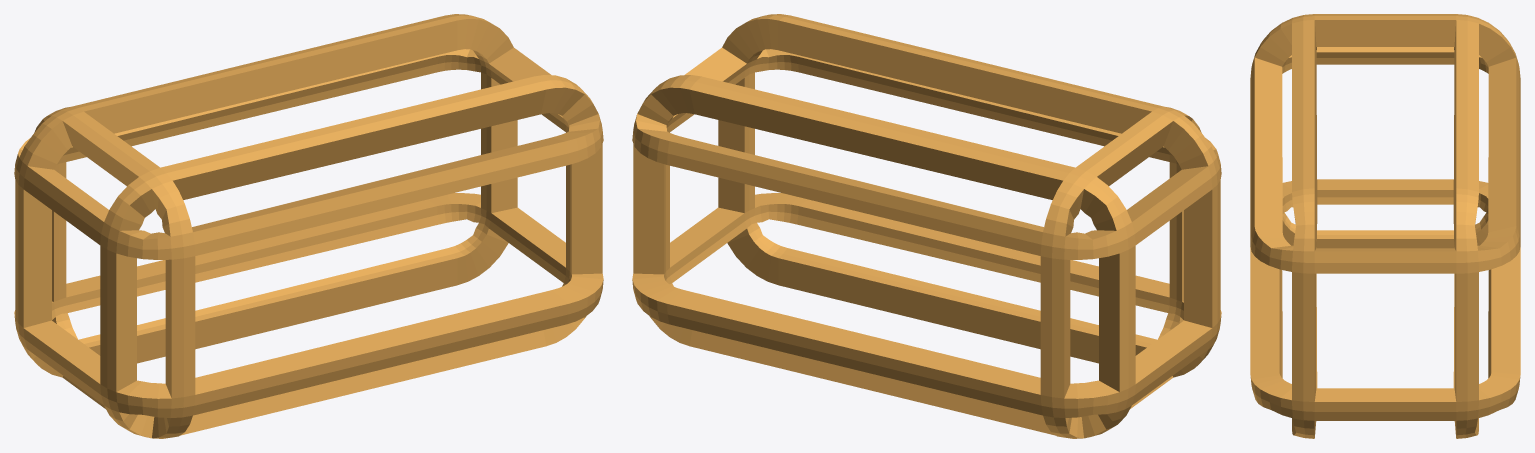
Rendered from RoundCubeMesh_03.fbx.
The picture shows the model from 3 angles, left to right: view 1: azimuth 30°, elevation 25°; view 2: azimuth 150°, elevation 25°; view 3: azimuth 270°, elevation 25°; orthographic projection. The views are drawn at different scales.
Visible parts, largest first — view 1: RoundCubeMesh_03; view 2: RoundCubeMesh_03; view 3: RoundCubeMesh_03.
Boxes of the visible parts, left/top/right/bottom form: RoundCubeMesh_03: left=14, top=14, right=603, bottom=438; RoundCubeMesh_03: left=632, top=14, right=1221, bottom=438; RoundCubeMesh_03: left=1250, top=14, right=1520, bottom=438.
Bounding box in the file's own units: 451 × 231 × 231.
